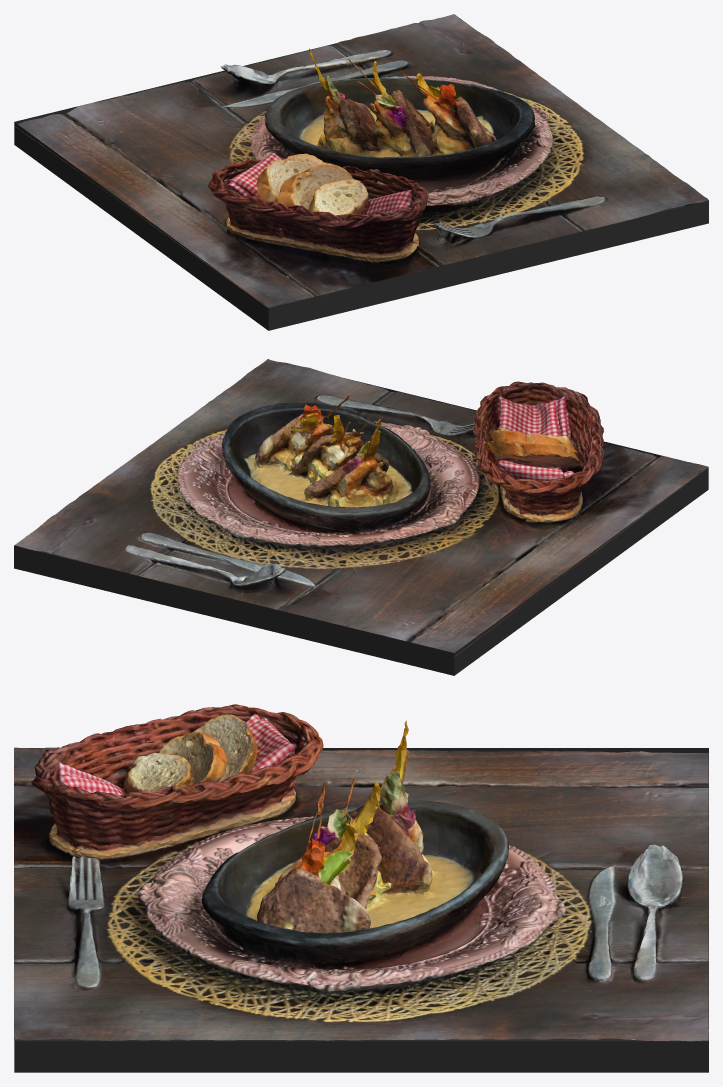
Rendered from 08-Mar-y-Tierra.glb.
The picture shows the model from 3 angles, top to bottom: view 1: azimuth 30°, elevation 25°; view 2: azimuth 150°, elevation 25°; view 3: azimuth 270°, elevation 25°; orthographic projection. The views are drawn at different scales.
Parts seen in each view (by area): view 1: 08-Mar-y-Tierra; view 2: 08-Mar-y-Tierra; view 3: 08-Mar-y-Tierra.
Boxes of the visible parts, x1,y1,x2,y2 form: 08-Mar-y-Tierra: (14, 14, 708, 330); 08-Mar-y-Tierra: (14, 359, 708, 675); 08-Mar-y-Tierra: (14, 704, 708, 1072).
Bounding box in the file's own units: 0.5027 × 0.1452 × 0.5025.
2 materials, 1 textured.
